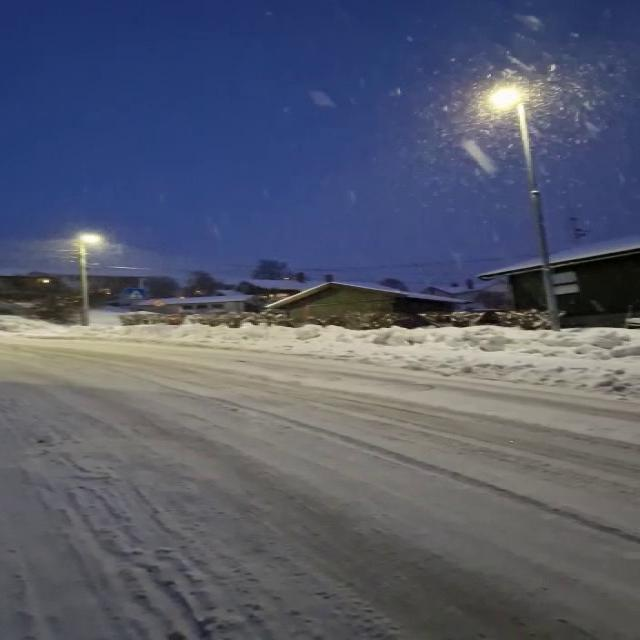path: (2, 338, 638, 640)
